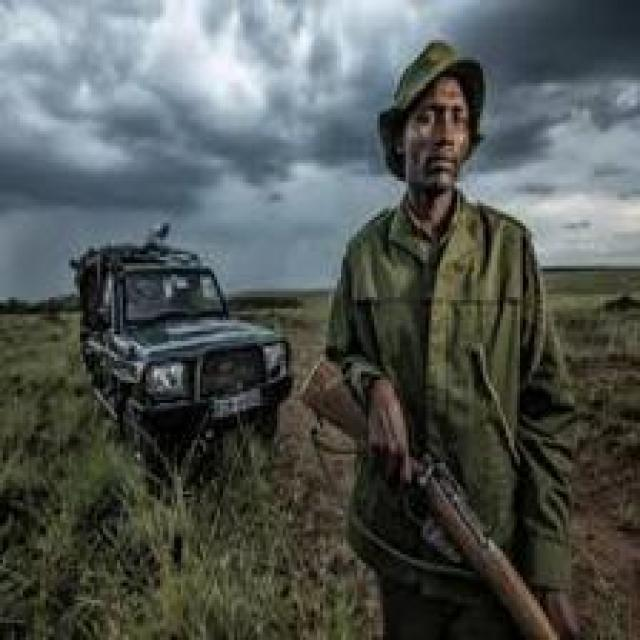Jeep: (55, 204, 312, 476)
